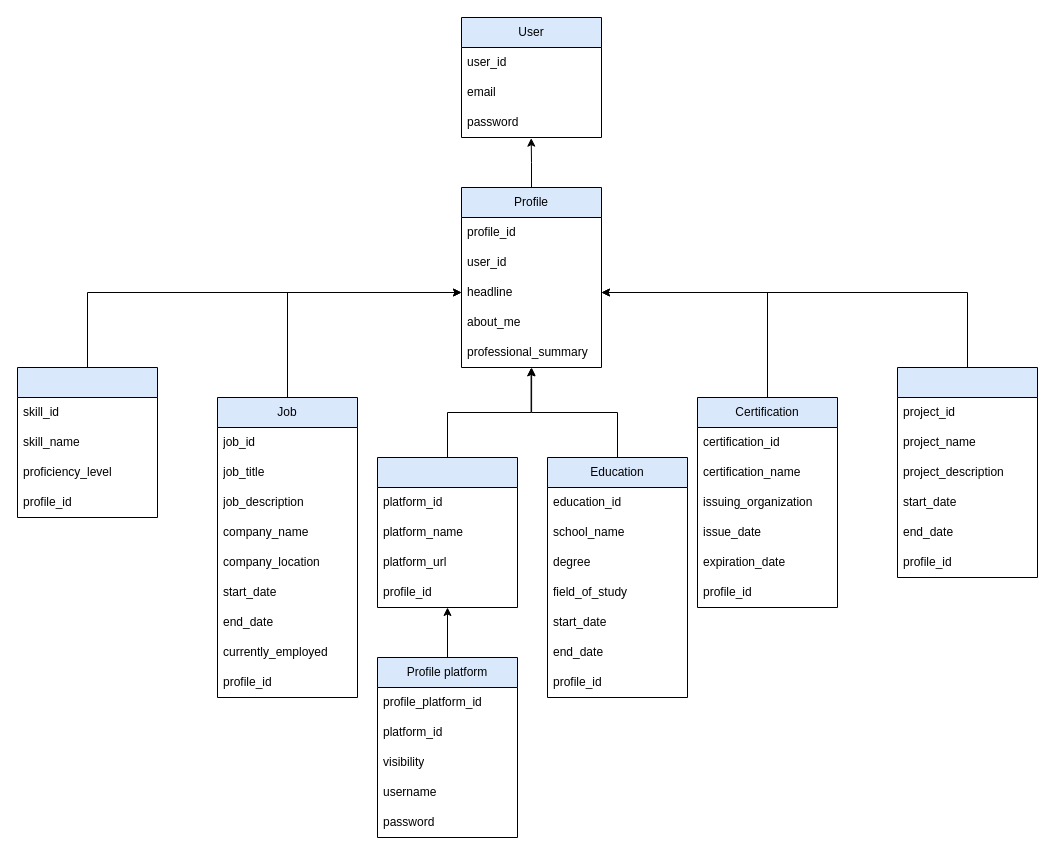
The diagram is 1055 pixels wide and 855 high, and some of its shapes have lost their labels. The box of each missing label's shape, as (x1, y1, x2, y2) in pixels:
Job search platform: (376, 456, 518, 608)
Professional Project: (896, 366, 1038, 578)
Skills: (16, 366, 158, 518)
